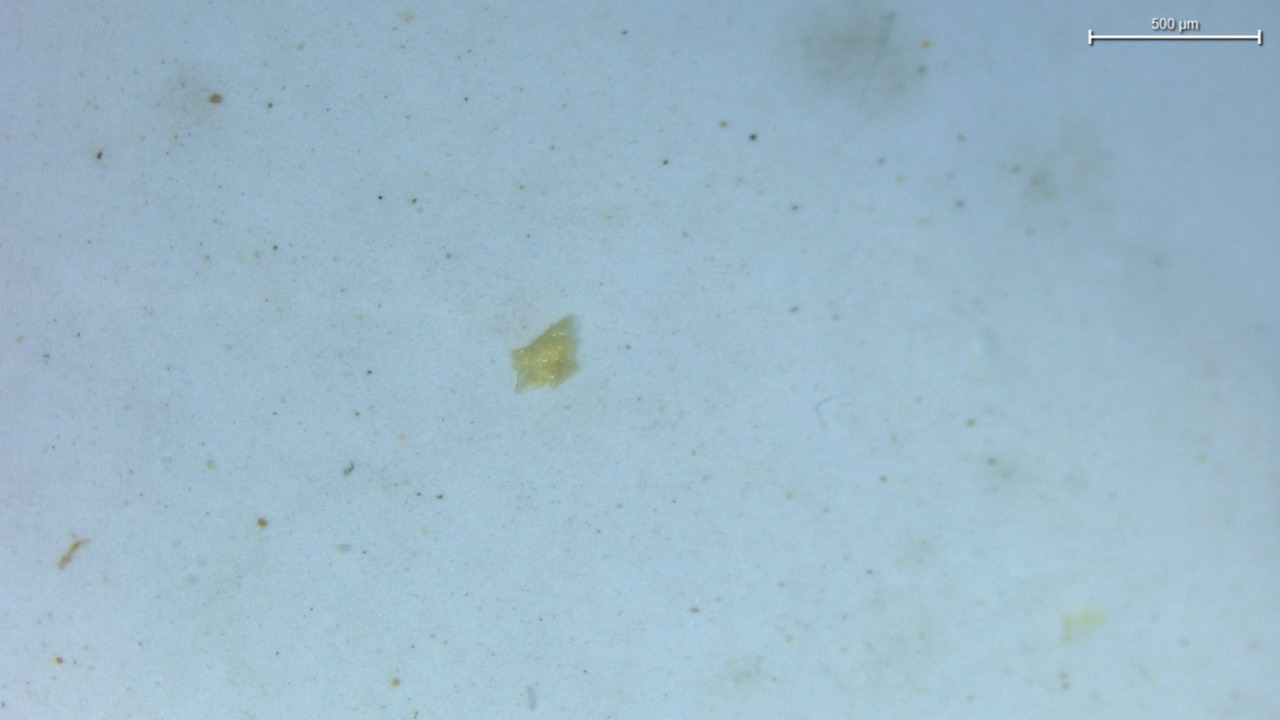microplastic_fragment: (512, 316, 579, 392)
